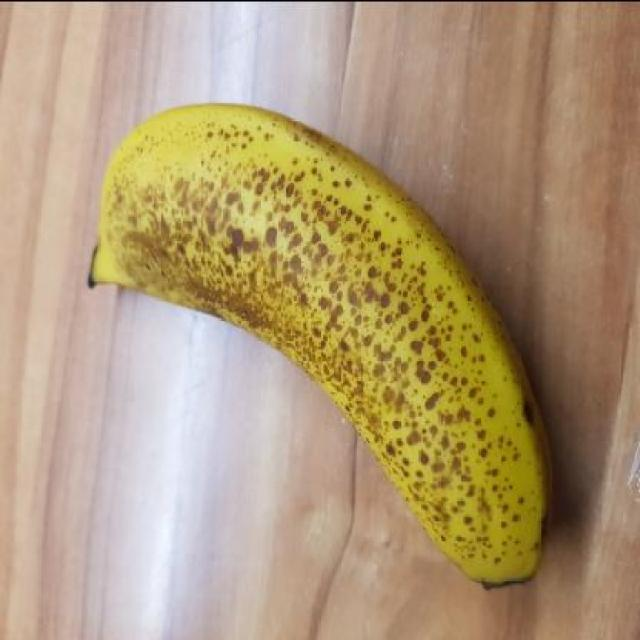banana: (86, 96, 560, 589)
